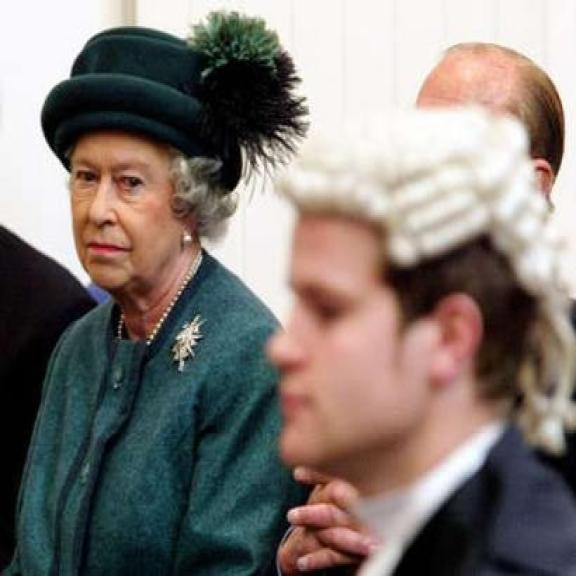face: (264, 205, 484, 483), (65, 132, 197, 298)
